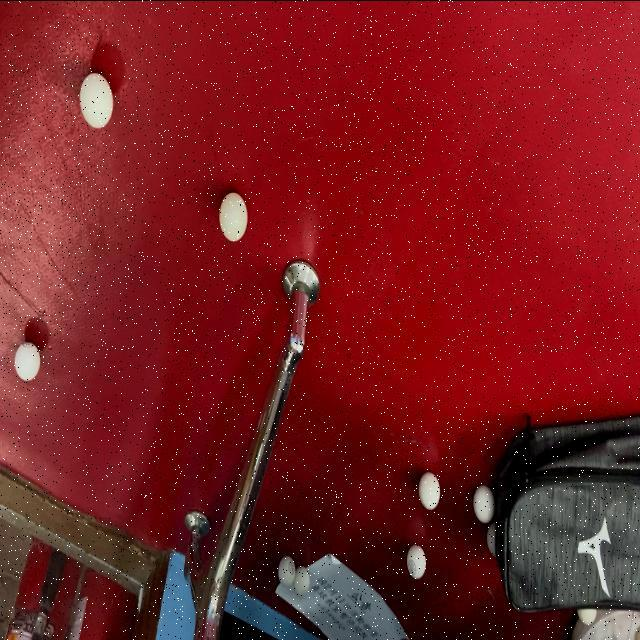ping-pong-ball: (78, 69, 115, 129), (218, 190, 248, 243), (14, 340, 41, 382), (418, 470, 442, 510), (472, 484, 496, 524), (406, 541, 428, 580), (292, 564, 312, 598), (278, 553, 296, 587)
